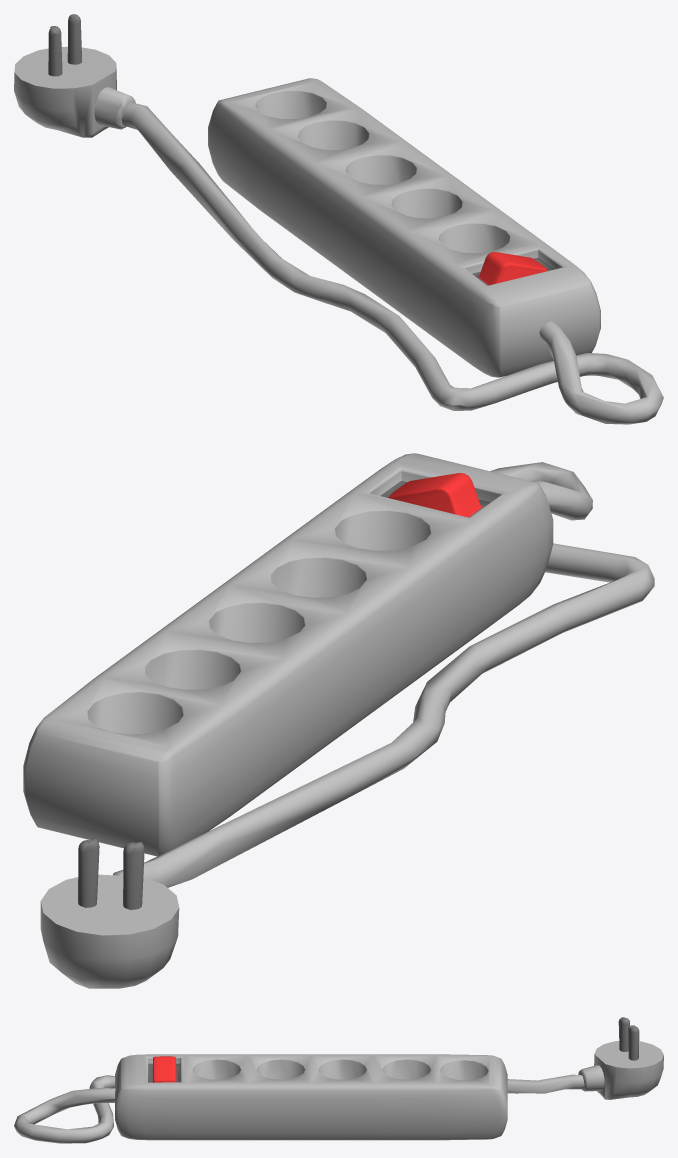
Rendered from Extension.fbx.
3 views of the same model, one above another, from view 1: azimuth 30°, elevation 25°; view 2: azimuth 150°, elevation 25°; view 3: azimuth 270°, elevation 25° (orthographic). The views are drawn at different scales.
Parts seen in each view (by area): view 1: Cube.007; view 2: Cube.007; view 3: Cube.007.
Boxes of the visible parts, x1,y1,x2,y2 form: Cube.007: (14,14,663,424); Cube.007: (23,453,654,988); Cube.007: (14,1017,663,1143).
Bounding box in the file's own units: 36.74 × 17.08 × 145.
